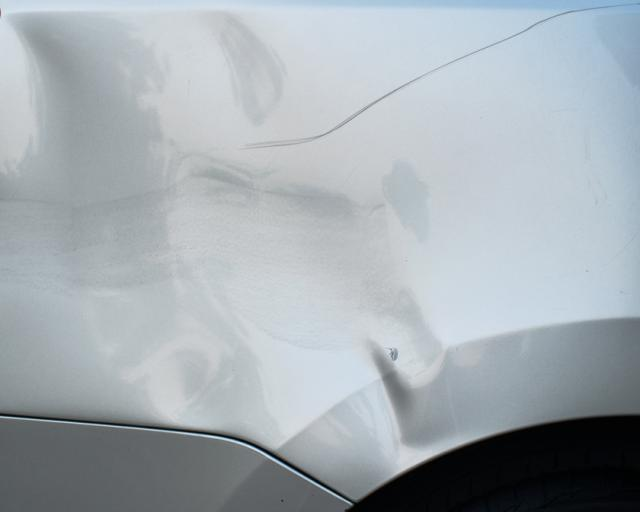dent: (0, 3, 462, 460)
scratch: (266, 0, 640, 150)
